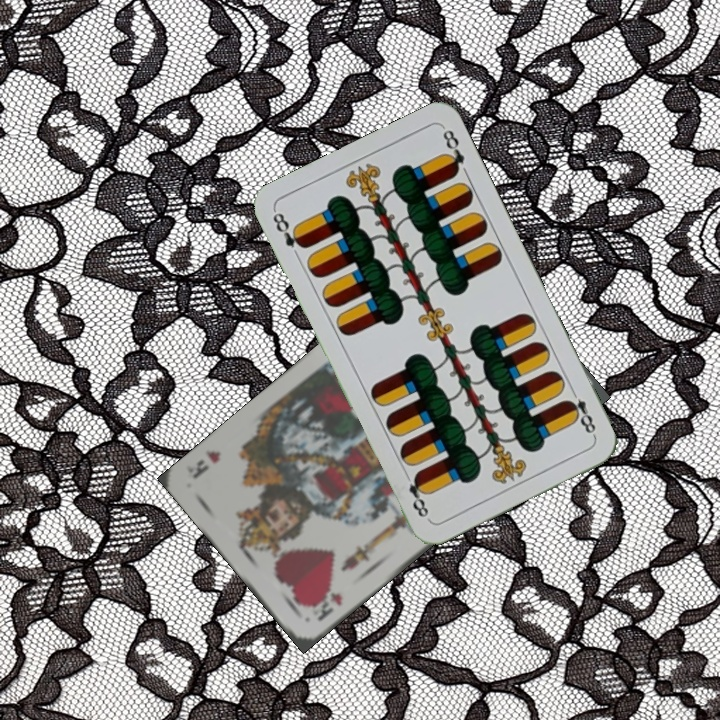E8: (561, 384, 599, 440), (268, 207, 309, 252)
HK: (303, 585, 345, 624)
